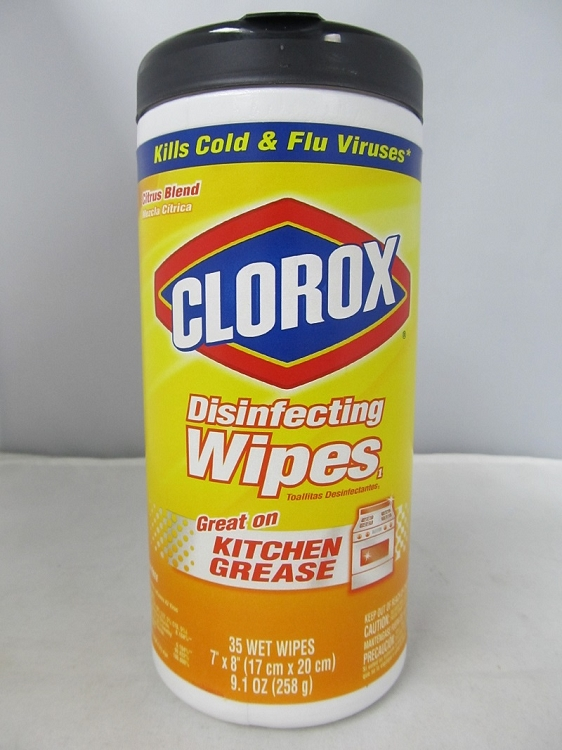Wipes: (126, 4, 439, 731)
